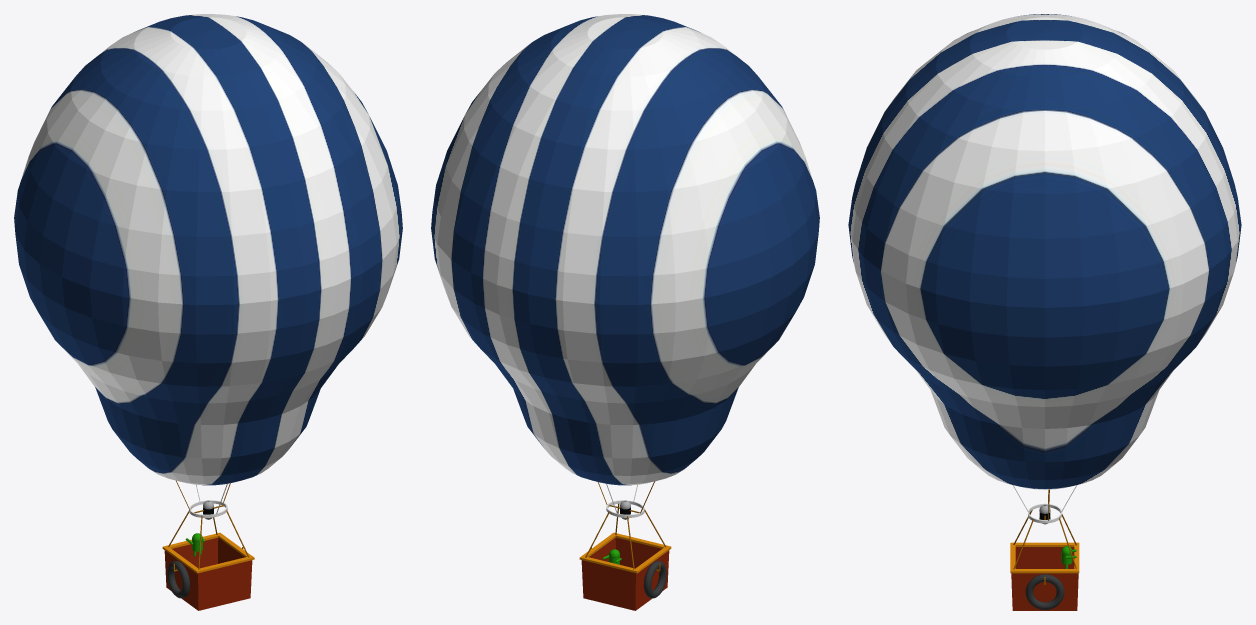
The model's file is Globo_aerostático.obj.
3 renders of one model, left to right at view 1: azimuth 30°, elevation 25°; view 2: azimuth 150°, elevation 25°; view 3: azimuth 270°, elevation 25°, orthographic.
Parts seen in each view (by area): view 1: 000_Esfera, 001_Cubo, 017_Torus.001; view 2: 000_Esfera, 001_Cubo, 017_Torus.001; view 3: 000_Esfera, 001_Cubo, 017_Torus.001, 014_Cube.003_Cube.004.
Part boxes in pixels (left/top/right/bottom): 000_Esfera: left=14, top=14, right=402, bottom=485; 001_Cubo: left=164, top=537, right=252, bottom=610; 017_Torus.001: left=167, top=561, right=190, bottom=598; 000_Esfera: left=431, top=14, right=819, bottom=485; 001_Cubo: left=581, top=537, right=669, bottom=610; 017_Torus.001: left=643, top=561, right=666, bottom=598; 000_Esfera: left=848, top=14, right=1241, bottom=489; 001_Cubo: left=1011, top=547, right=1078, bottom=610; 017_Torus.001: left=1025, top=574, right=1064, bottom=609; 014_Cube.003_Cube.004: left=1010, top=542, right=1079, bottom=573.
Bounding box in the file's own units: 11.16 × 17.75 × 11.16.
28 materials, 4 textured.
